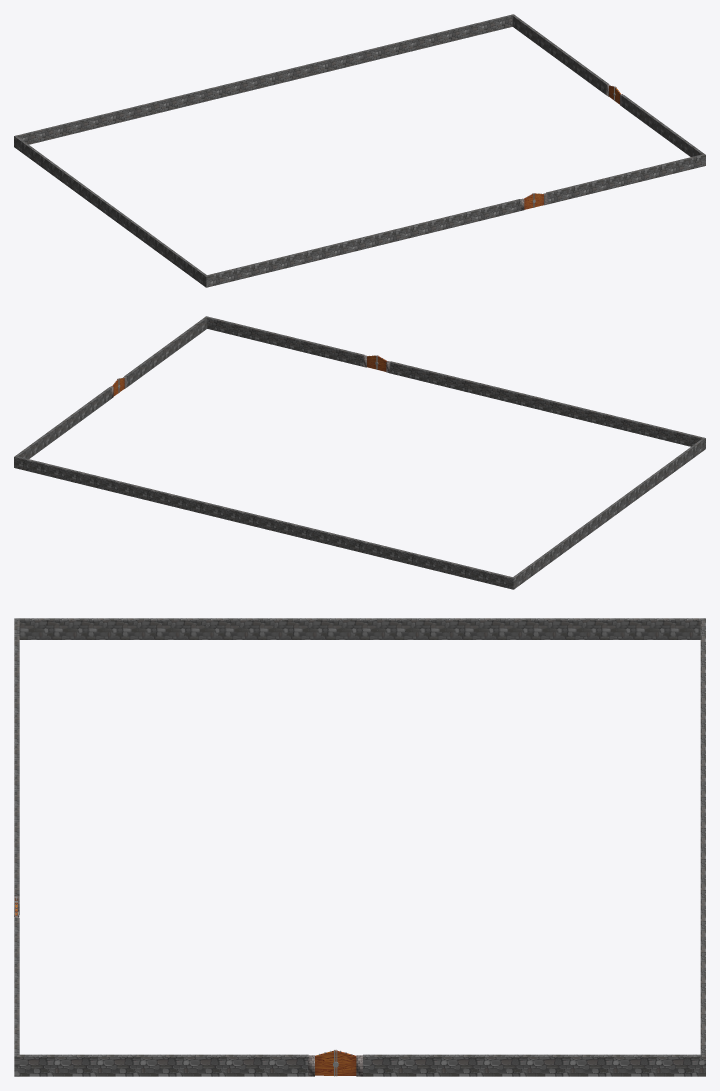
File: Walls.fbx
3 renders of one model, top to bottom at view 1: azimuth 30°, elevation 25°; view 2: azimuth 150°, elevation 25°; view 3: azimuth 270°, elevation 25°, orthographic. The views are drawn at different scales.
Visible parts, largest first — view 1: Cube; view 2: Cube; view 3: Cube, walls.001.
Part boxes in pixels (x1,y1,x2,y2): Cube: [14, 14, 705, 287]; Cube: [14, 316, 705, 589]; Cube: [14, 618, 705, 1076]; walls.001: [308, 1049, 362, 1076].
Size of the model in its own units: 18558 by 495 by 12373.
Materials: 5 (3 with a texture image).
